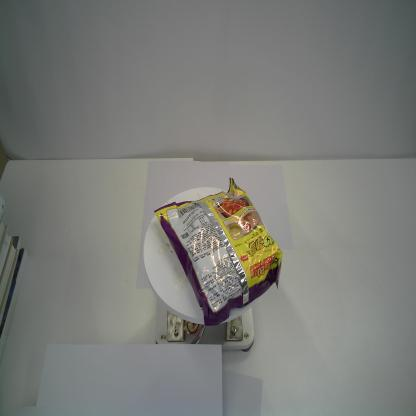Instant Noodles: (153, 175, 285, 328)
